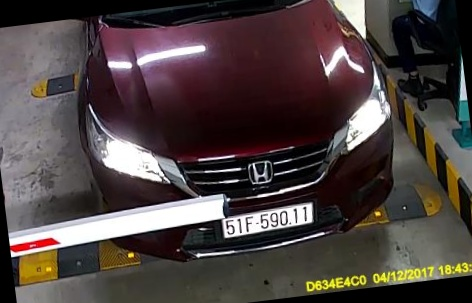plate: (217, 204, 326, 237)
